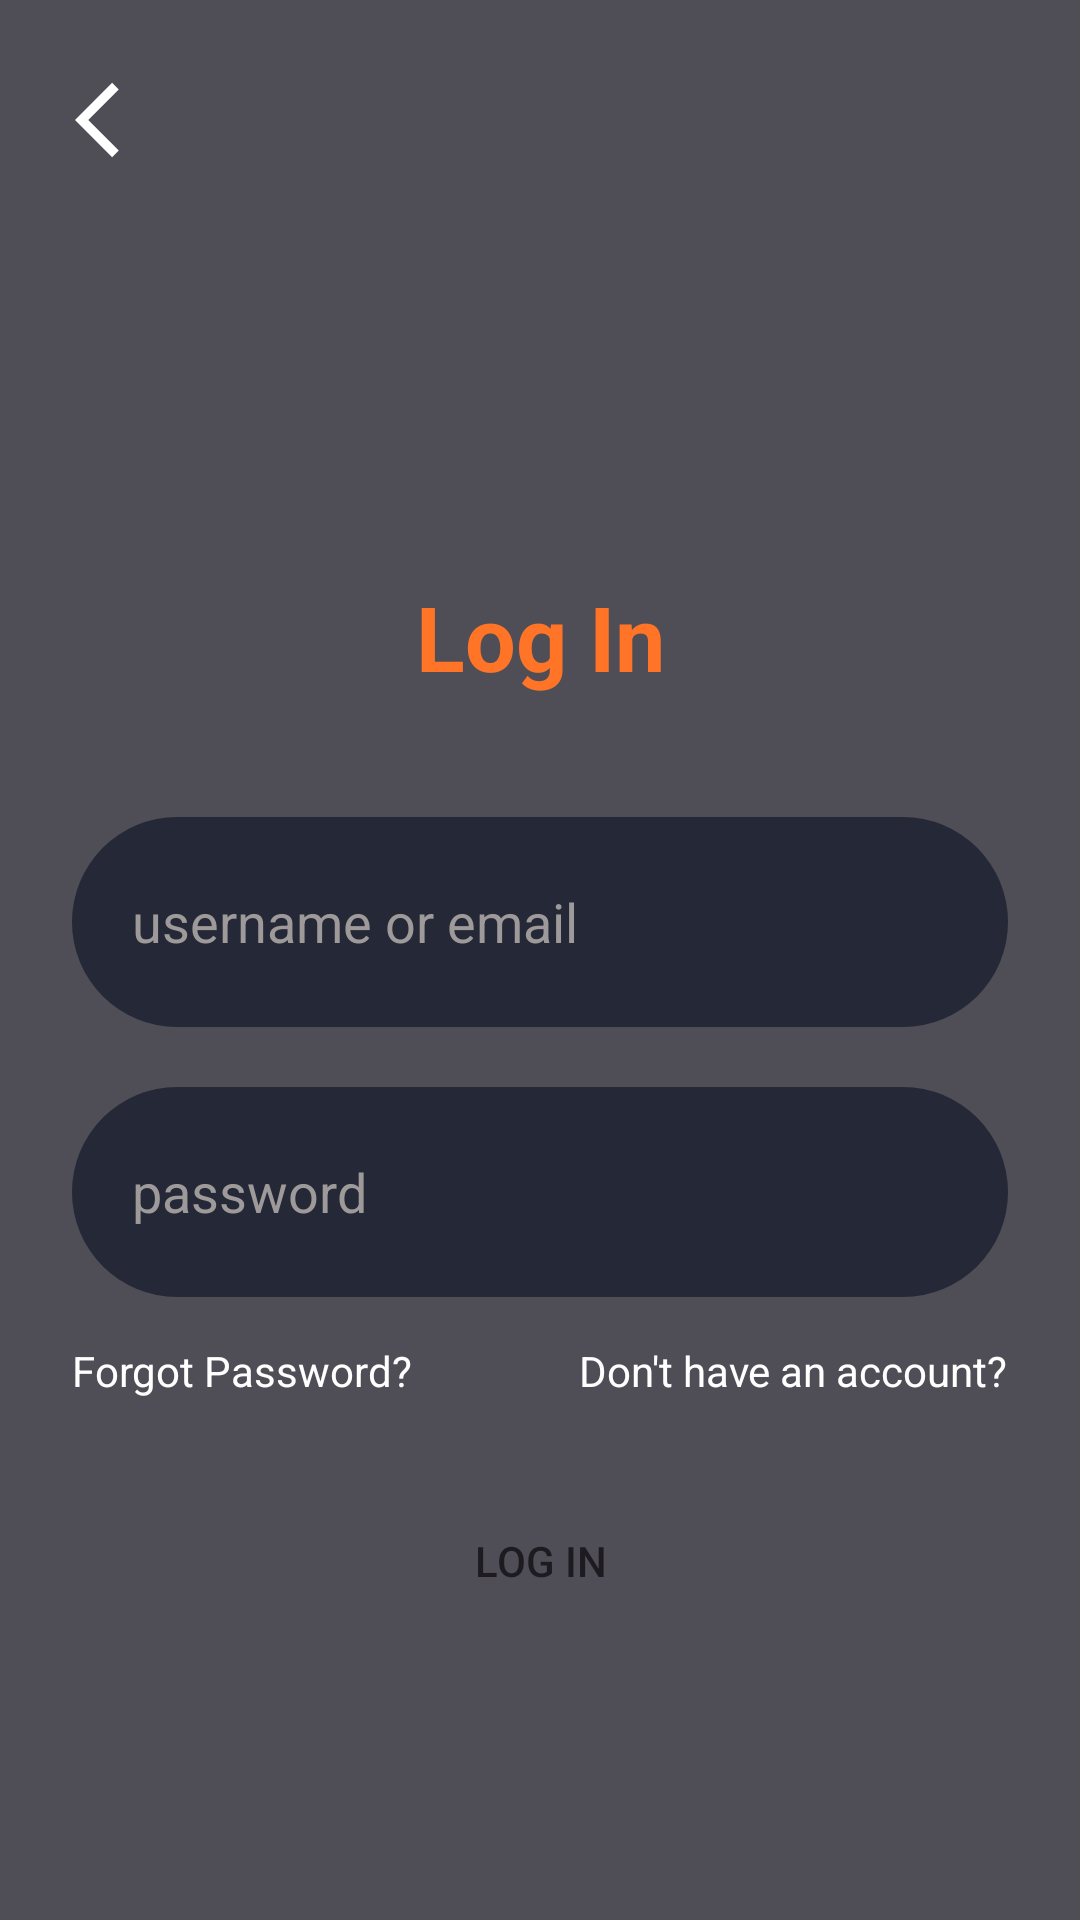

Named icons in this screenshot (1080 x 1920) and their bounding boxes, [x1=x1, y1=y1, x2=x2, y2=y2]:
arrow back: [x1=75, y1=83, x2=119, y2=157]
